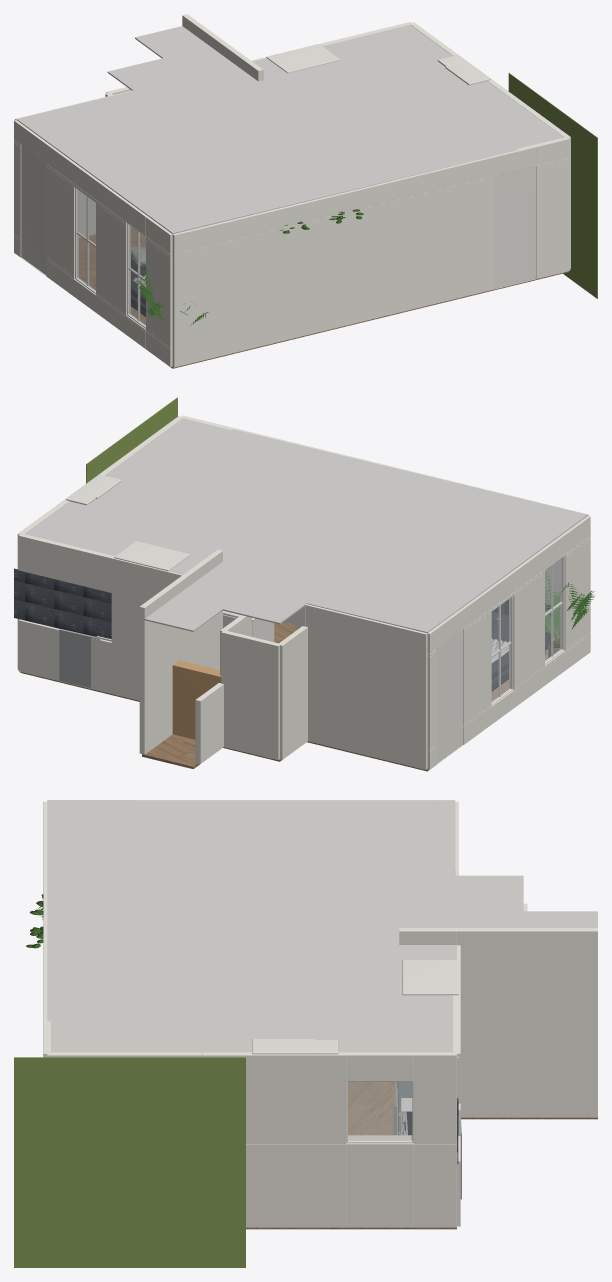
3 views of the same model, one above another, from view 1: azimuth 30°, elevation 25°; view 2: azimuth 150°, elevation 25°; view 3: azimuth 270°, elevation 25° (orthographic). The views are drawn at different scales.
Visible parts, largest first — view 1: source-measured-main-ceiling, wall_8_segment.006, wall_8_segment.007, inferred_outdoor_brightness, door_panel.002, wall_8_segment.001, door_panel, wall_0_segment.015, wall_0_segment.027, wall_0_segment.003, glass.001, measured_floor_polygon (+16 smaller); view 2: source-measured-main-ceiling, wall_11_segment, wall_1_segment, wall_4_segment, wall_3_segment, source black tile backsplash, extent pattern candidate, wall_9_segment, wall_0_segment.015, door_panel, wall_0_segment.027, home-downstairs__stairs_01__step.006, wall_0_segment.003 (+18 smaller); view 3: source-measured-main-ceiling, inferred_outdoor_brightness, wall_3_segment, wall_7_segment.007, wall_7_segment.008, wall_7_segment.004, glass.002, wall_7_segment, measured_floor_polygon, wall_7_segment.010, wall_7_segment.001, home-downstairs__storage_17__countertop (+7 smaller).
Boxes of the visible parts, x1,y1,x2,y2 form: source-measured-main-ceiling: [16, 25, 563, 233]; wall_8_segment.006: [172, 176, 493, 367]; wall_8_segment.007: [172, 156, 493, 254]; inferred_outdoor_brightness: [508, 73, 597, 298]; door_panel.002: [494, 166, 535, 288]; wall_8_segment.001: [536, 158, 569, 278]; door_panel: [21, 145, 46, 275]; wall_0_segment.015: [96, 203, 130, 315]; wall_0_segment.027: [46, 167, 78, 277]; wall_0_segment.003: [146, 240, 172, 347]; glass.001: [77, 189, 95, 291]; measured_floor_polygon: [79, 226, 568, 368]; source-measured-main-ceiling: [25, 418, 587, 633]; wall_11_segment: [296, 604, 427, 769]; wall_1_segment: [18, 534, 183, 700]; wall_4_segment: [221, 630, 280, 760]; wall_3_segment: [139, 566, 200, 754]; source black tile backsplash, extent pattern candidate: [14, 568, 111, 639]; wall_9_segment: [279, 626, 307, 759]; wall_0_segment.015: [509, 573, 544, 687]; door_panel: [437, 630, 462, 763]; wall_0_segment.027: [463, 612, 491, 724]; home-downstairs__stairs_01__step.006: [172, 660, 221, 739]; wall_0_segment.003: [560, 539, 590, 650]; source-measured-main-ceiling: [47, 800, 597, 1052]; inferred_outdoor_brightness: [14, 1057, 245, 1267]; wall_3_segment: [457, 928, 597, 1117]; wall_7_segment.007: [246, 1144, 346, 1227]; wall_7_segment.008: [246, 1081, 346, 1143]; wall_7_segment.004: [346, 1143, 413, 1227]; glass.002: [348, 1082, 411, 1140]; wall_7_segment: [414, 1144, 456, 1227]; measured_floor_polygon: [246, 1082, 597, 1229]; wall_7_segment.010: [202, 1052, 346, 1079]; wall_7_segment.001: [414, 1081, 456, 1143]; home-downstairs__storage_17__countertop: [402, 960, 458, 995].
Bounding box in the file's own units: 8.43 × 3.11 × 7.55.
Materials: 53 (2 with a texture image).
